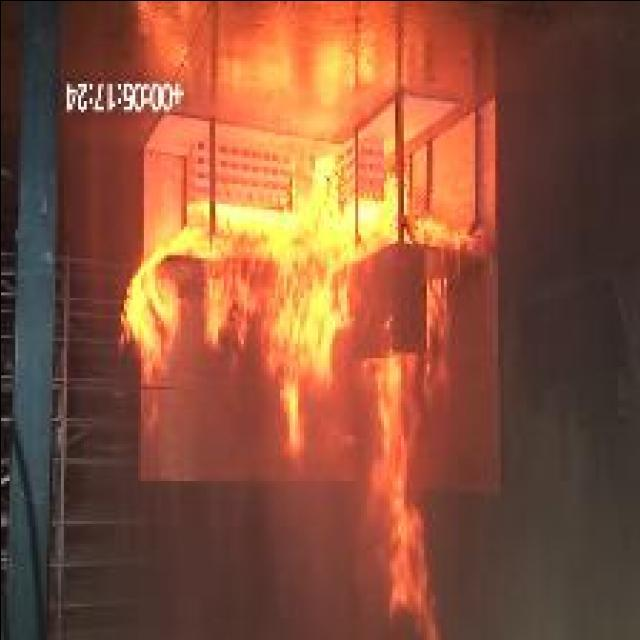Fire: (115, 154, 488, 454), (364, 280, 450, 640)
